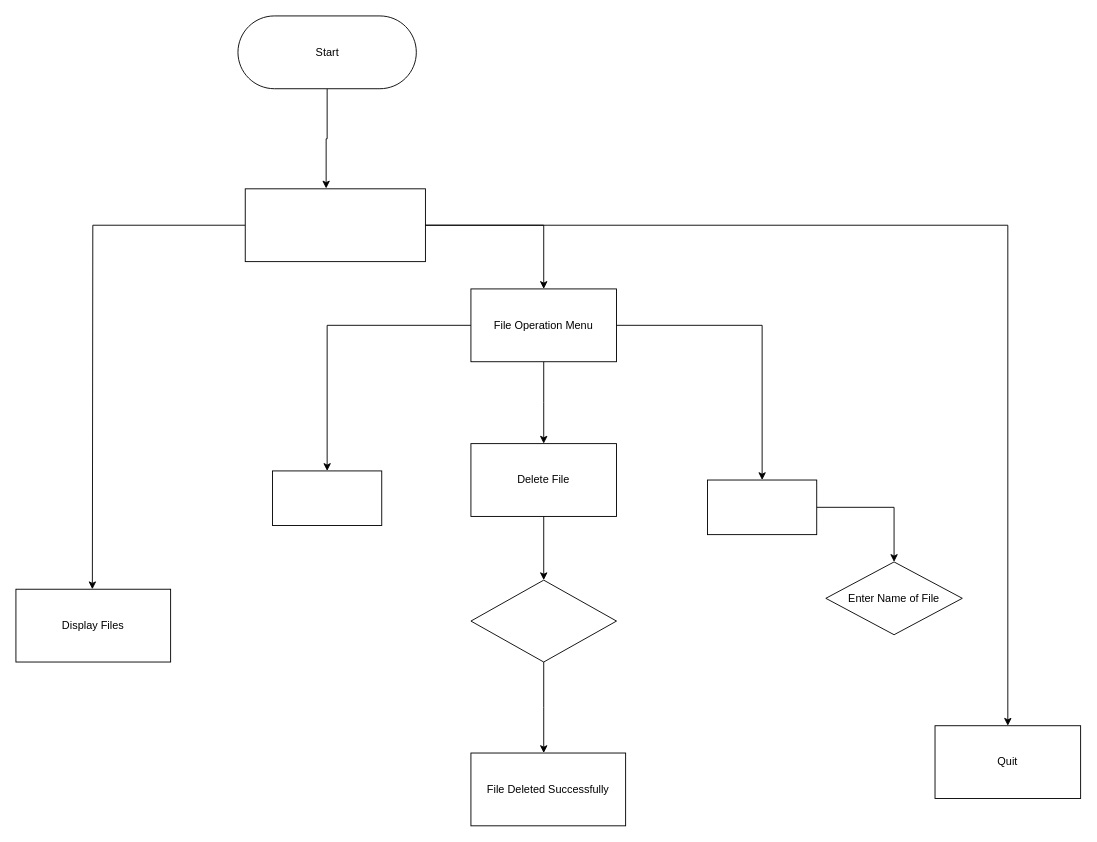
The diagram is 1097 pixels wide and 842 high, and some of its shapes have lost their labels. Here are the shapes that lost their labels. From the top down, the centre of each, then its label:
At point 334,225: "Main Menu".
At point 327,498: "Create New".
At point 762,507: "Search File".
At point 543,620: "Enter File Name".
